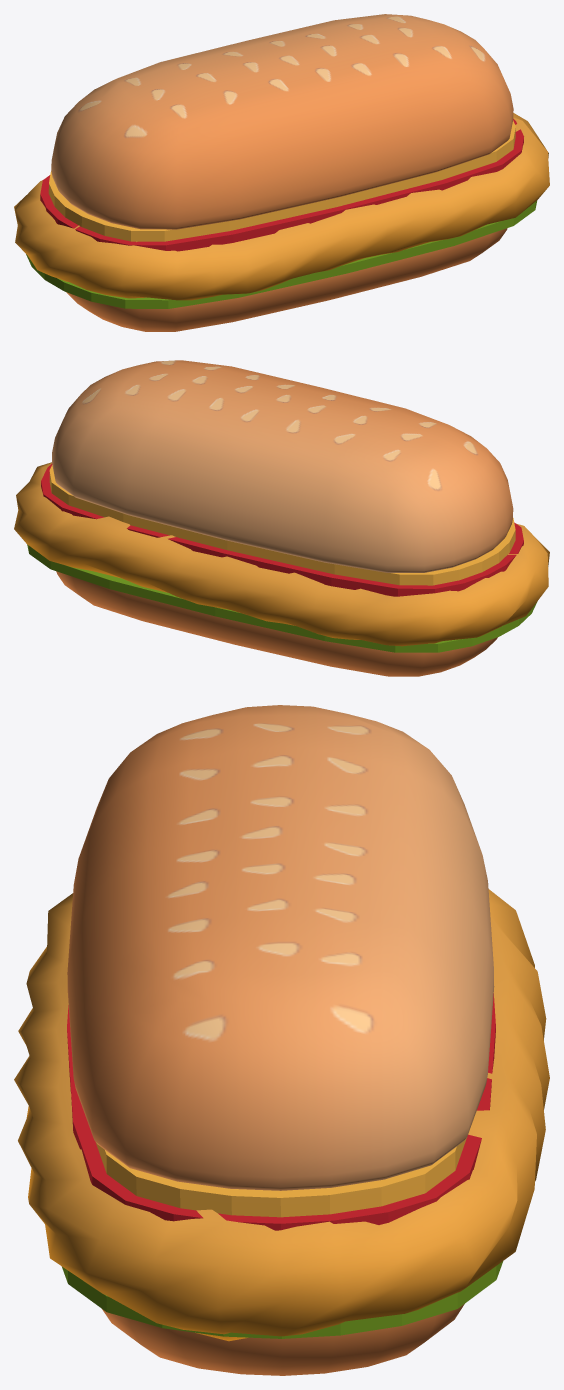
The model's file is Chicken Burger.fbx.
3 views of the same model, one above another, from view 1: azimuth 30°, elevation 25°; view 2: azimuth 150°, elevation 25°; view 3: azimuth 270°, elevation 25° (orthographic). The views are drawn at different scales.
Visible parts, largest first — view 1: Chicken Burger; view 2: Chicken Burger; view 3: Chicken Burger.
Part boxes in pixels (x1=…): Chicken Burger: x1=14, y1=14, x2=549, y2=331; Chicken Burger: x1=14, y1=360, x2=549, y2=676; Chicken Burger: x1=14, y1=705, x2=549, y2=1375.
Size of the model in its own units: 25.42 by 10.84 by 13.13.
